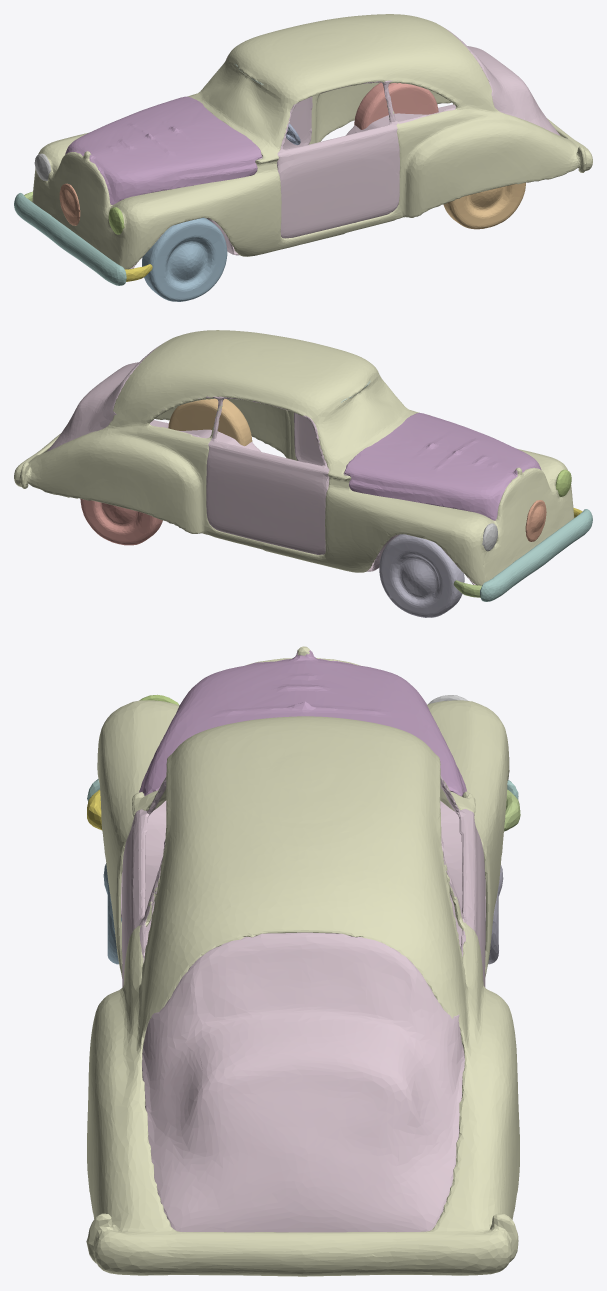
File: cyan_car.glb
The picture shows the model from 3 angles, top to bottom: view 1: azimuth 30°, elevation 25°; view 2: azimuth 150°, elevation 25°; view 3: azimuth 270°, elevation 25°; orthographic projection. The views are drawn at different scales.
Parts seen in each view (by area): view 1: cyan_car_0.obj_1, cyan_car_0.obj_7, cyan_car_0.obj_9, cyan_car_0.obj_4, cyan_car_0.obj, cyan_car_0.obj_5, cyan_car_0.obj_3, cyan_car_0.obj_13; view 2: cyan_car_0.obj_1, cyan_car_0.obj_7, cyan_car_0.obj_9, cyan_car_0.obj_2, cyan_car_0.obj, cyan_car_0.obj_3, cyan_car_0.obj_5, cyan_car_0.obj_13; view 3: cyan_car_0.obj_1, cyan_car_0.obj_7, cyan_car_0.obj_9.
Boxes of the visible parts, left/top/right/bottom form: cyan_car_0.obj_1: left=32, top=14, right=592, bottom=269; cyan_car_0.obj_7: left=129, top=28, right=560, bottom=269; cyan_car_0.obj_9: left=65, top=96, right=262, bottom=204; cyan_car_0.obj_4: left=142, top=217, right=227, bottom=301; cyan_car_0.obj: left=14, top=193, right=126, bottom=285; cyan_car_0.obj_5: left=443, top=182, right=525, bottom=229; cyan_car_0.obj_3: left=354, top=82, right=438, bottom=129; cyan_car_0.obj_13: left=59, top=183, right=80, bottom=225; cyan_car_0.obj_1: left=14, top=330, right=574, bottom=585; cyan_car_0.obj_7: left=47, top=344, right=475, bottom=584; cyan_car_0.obj_9: left=344, top=412, right=541, bottom=520; cyan_car_0.obj_2: left=379, top=534, right=464, bottom=617; cyan_car_0.obj: left=480, top=509, right=592, bottom=601; cyan_car_0.obj_3: left=80, top=498, right=162, bottom=545; cyan_car_0.obj_5: left=168, top=398, right=252, bottom=446; cyan_car_0.obj_13: left=525, top=500, right=546, bottom=541; cyan_car_0.obj_1: left=86, top=646, right=519, bottom=1276; cyan_car_0.obj_7: left=121, top=775, right=485, bottom=1232; cyan_car_0.obj_9: left=139, top=650, right=466, bottom=796.
Size of the model in its own units: 1.89 by 0.672 by 0.7284.
